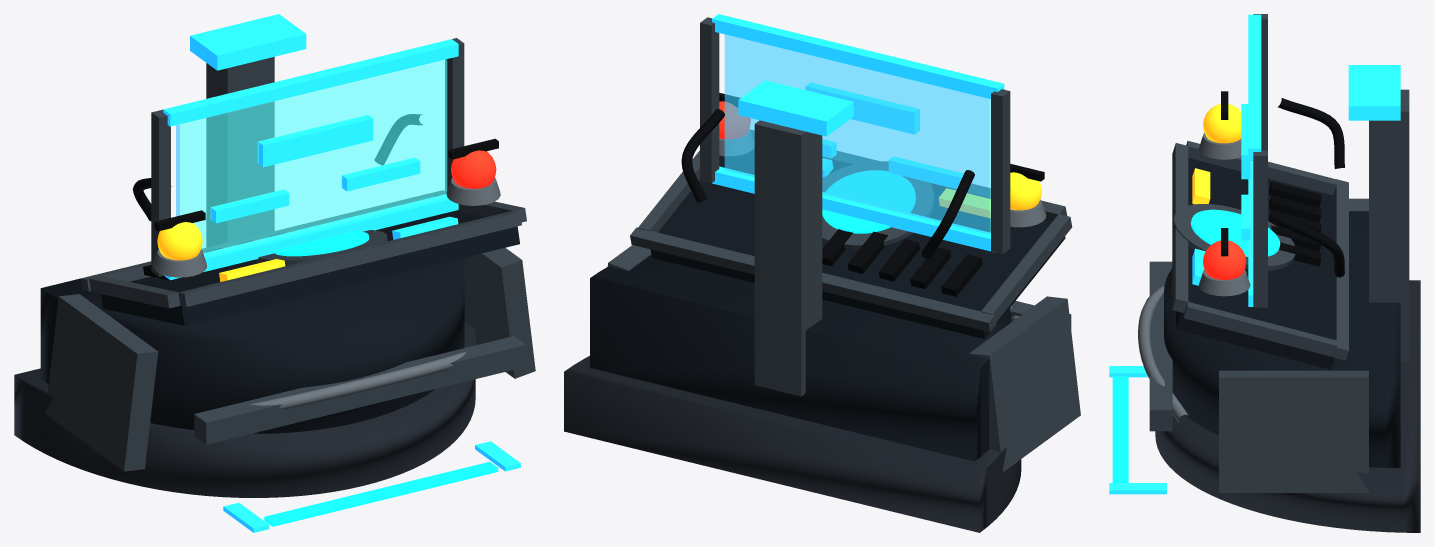
File: quest-terminal.glb
3 views of the same model, side by side, from view 1: azimuth 30°, elevation 25°; view 2: azimuth 150°, elevation 25°; view 3: azimuth 270°, elevation 25° (orthographic). The views are drawn at different scales.
Parts seen in each view (by area): view 1: RaisedHalfRoundConsoleBody, HologramScreenPane, HalfRoundFoundation, LeftSideArmorRib, SlopedArmoredPanel, VerticalScreenEmitterPost, FrontReinforcedBumper, RightSideArmorRib, ScreenUpperGlowBar, PanelFrontTrim, ScreenLowerGlowBar, BlueEmitterCap (+17 smaller); view 2: RaisedHalfRoundConsoleBody, HalfRoundFoundation, HologramScreenPane, VerticalScreenEmitterPost, SlopedArmoredPanel, LeftSideArmorRib, PanelTopTrim, ScreenUpperGlowBar, BlueEmitterCap, ScreenLowerGlowBar, CyanActivationDisc, ScreenLeftFrame (+17 smaller); view 3: RightSideArmorRib, RaisedHalfRoundConsoleBody, HalfRoundFoundation, SlopedArmoredPanel, VerticalScreenEmitterPost, BlueEmitterCap, FrontReinforcedBumper, RightPanelTrim, BeaconGlowBulb (×2), PanelTopTrim, PanelFrontTrim, ScreenRightFrame (+22 smaller).
Boxes of the visible parts, x1,y1,x2,y2 form: RaisedHalfRoundConsoleBody: (40,257,464,433); HologramScreenPane: (176,59,447,256); HalfRoundFoundation: (14,322,475,497); LeftSideArmorRib: (45,294,158,471); SlopedArmoredPanel: (101,210,519,325); VerticalScreenEmitterPost: (206,57,274,247); FrontReinforcedBumper: (194,336,525,444); RightSideArmorRib: (464,247,535,378); ScreenUpperGlowBar: (163,39,458,126); PanelFrontTrim: (178,210,521,306); ScreenLowerGlowBar: (164,194,458,280); BlueEmitterCap: (190,14,306,70); RaisedHalfRoundConsoleBody: (590,255,1010,461); HalfRoundFoundation: (564,356,1021,532); HologramScreenPane: (724,34,990,234); VerticalScreenEmitterPost: (754,120,822,396); SlopedArmoredPanel: (650,149,1065,338); LeftSideArmorRib: (969,296,1080,471); PanelTopTrim: (630,227,996,331); ScreenUpperGlowBar: (712,14,1004,98); BlueEmitterCap: (738,80,853,136); ScreenLowerGlowBar: (712,166,993,252); CyanActivationDisc: (822,170,915,233); ScreenLeftFrame: (991,89,1010,254); RightSideArmorRib: (1219,370,1368,492); RaisedHalfRoundConsoleBody: (1164,211,1400,467); HalfRoundFoundation: (1155,280,1420,532); SlopedArmoredPanel: (1176,158,1334,369); VerticalScreenEmitterPost: (1369,89,1409,362); BlueEmitterCap: (1348,65,1400,120); FrontReinforcedBumper: (1149,261,1172,431); RightPanelTrim: (1184,302,1337,356); BeaconGlowBulb (×2): (1203,104,1246,279); PanelTopTrim: (1333,179,1348,360); PanelFrontTrim: (1172,143,1188,312); ScreenRightFrame: (1253,150,1267,307).
Bounding box in the file's own units: 1.6 × 1.35 × 1.08.
